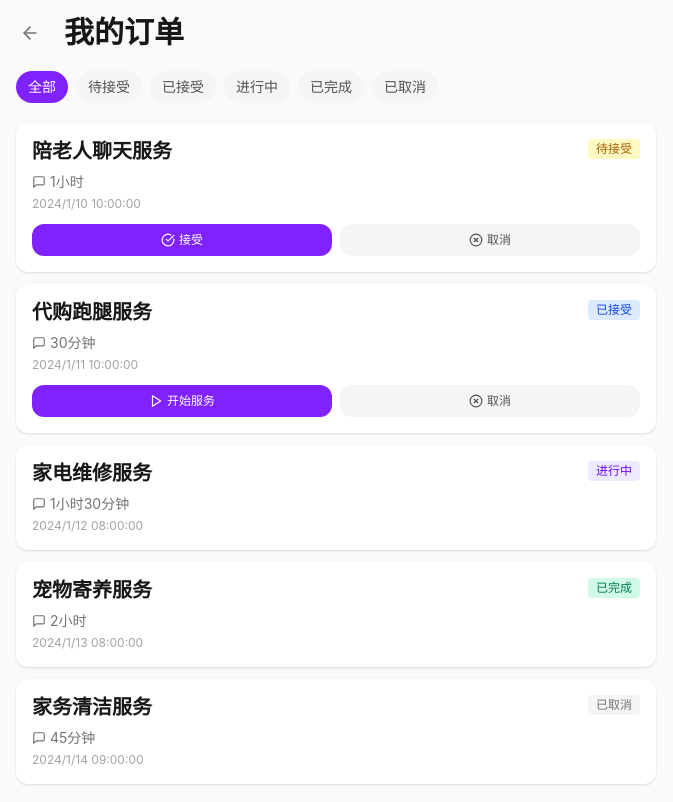
TimeBank/MyOrders 订单列表 › 切换状态筛选 Tab 重新过滤列表
Expected: the heading "陪老人聊天服务" is shown, [32,139,172,163]
Expected: the heading "代购跑腿服务" is shown, [32,300,152,324]
// 点击"待接受"Tab：仅 pending 状态订单可见
Click the button "待接受".
click(109, 87)  # box [76,71,142,103]
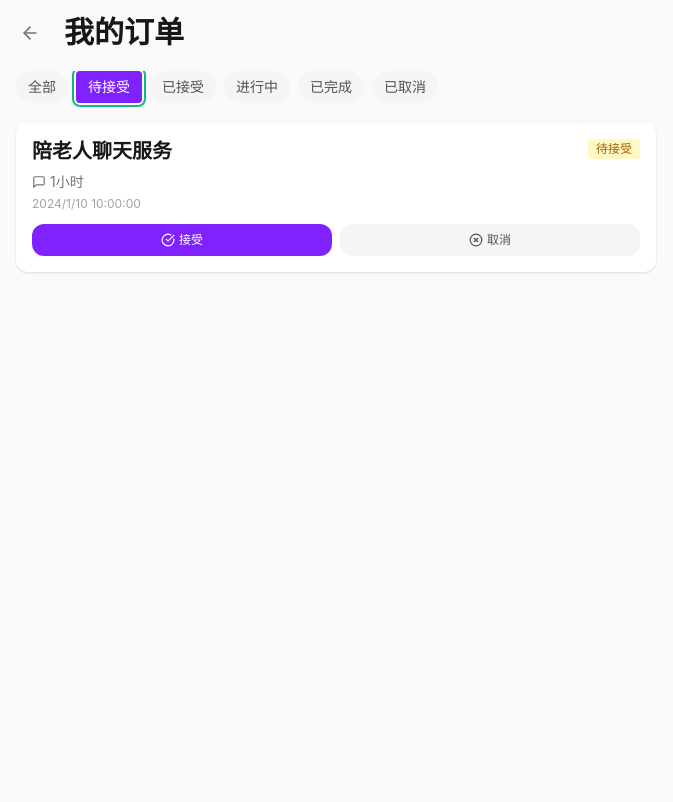
Expected: the heading "陪老人聊天服务" is shown, [32,139,172,163]
Result: the heading "代购跑腿服务" is gone
Result: the heading "家电维修服务" is gone
